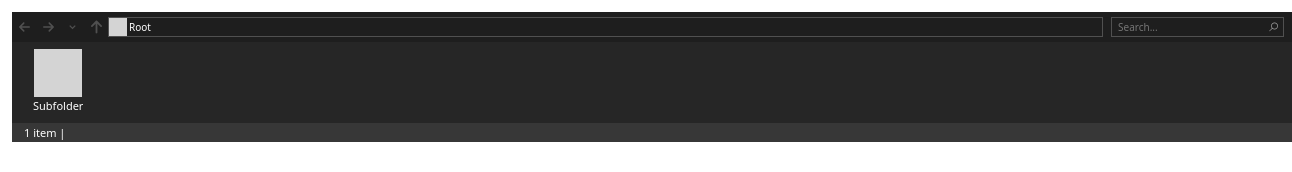
Folder component › can open other folders
Double-click the list item with test id "foldericon" at (58, 83), box [24,48,92,117]
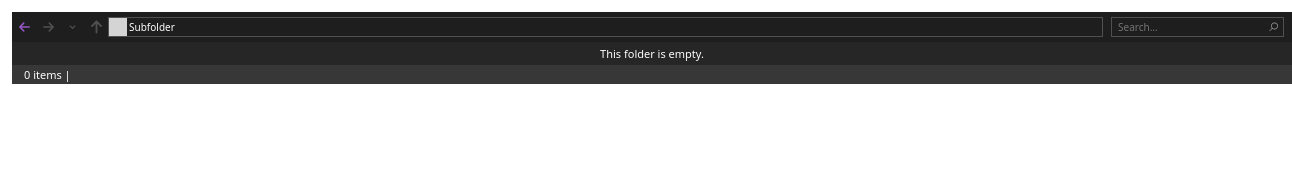
Expected: the text "This folder is empty." is shown, [600,46,704,61]
